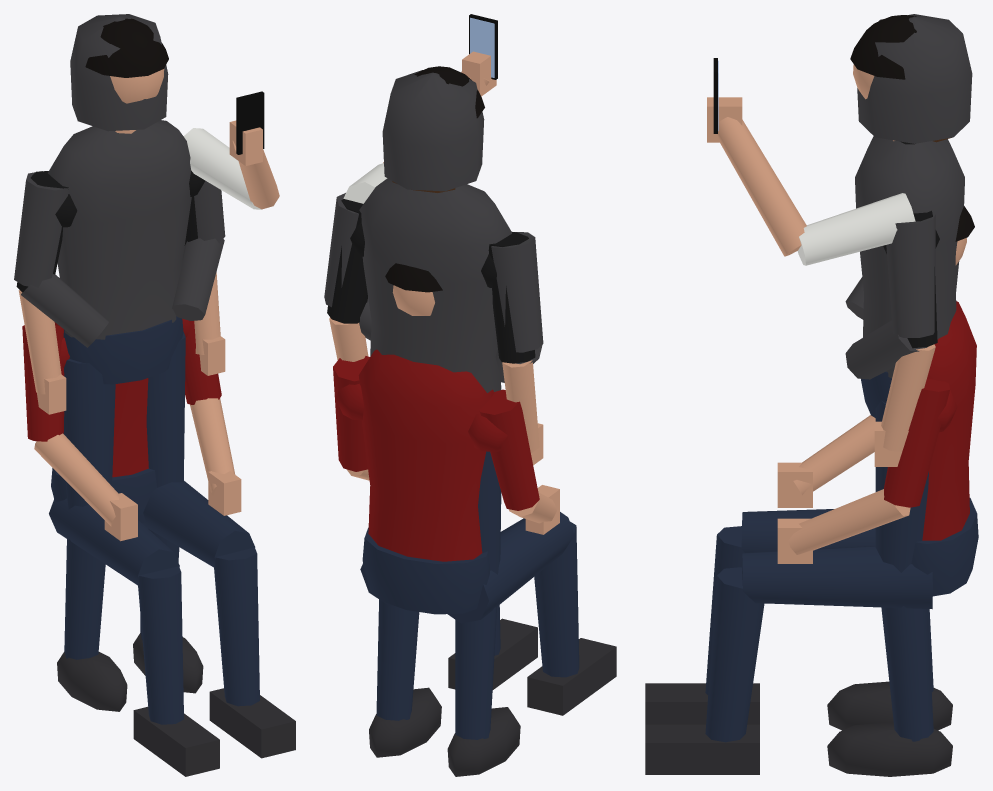
The model's file is crowd_person.glb.
The picture shows the model from 3 angles, left to right: view 1: azimuth 30°, elevation 25°; view 2: azimuth 150°, elevation 25°; view 3: azimuth 270°, elevation 25°; orthographic projection. The views are drawn at different scales.
Visible parts, largest first — view 1: Person_S, Person_C, Person_A, Person_B; view 2: Person_S, Person_C, Person_A, Person_B; view 3: Person_S, Person_C, Person_A, Person_B.
Part boxes in pixels (x1,y1,x2,y2): Person_S: [22, 318, 295, 776]; Person_C: [14, 14, 225, 347]; Person_A: [16, 18, 225, 711]; Person_B: [183, 91, 279, 209]; Person_S: [333, 263, 616, 715]; Person_C: [324, 70, 543, 392]; Person_A: [327, 66, 543, 776]; Person_B: [343, 14, 497, 203]; Person_S: [645, 206, 978, 774]; Person_C: [845, 14, 972, 379]; Person_A: [827, 15, 952, 776]; Person_B: [707, 58, 951, 265].
Size of the model in its own units: 0.6113 by 1.82 by 0.7556.
Materials: 1 (1 with a texture image).
